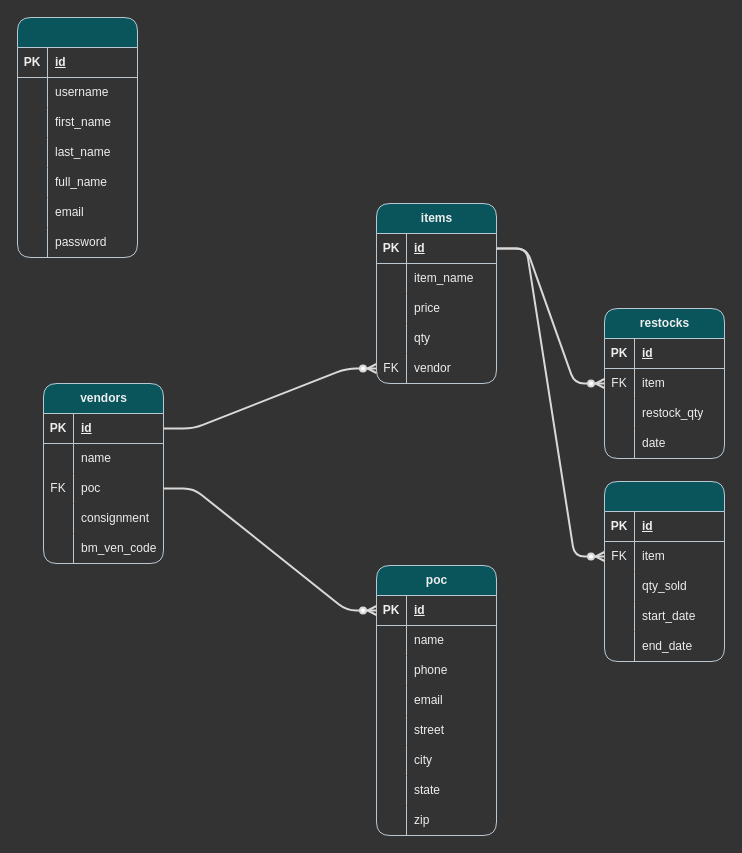
Some shapes in this 742 by 853 pixel diagram are drawn without their labels. The box of each missing label's shape, as (x1, y1, x2, y2) in pixels:
sales: (604, 480, 724, 662)
Users: (16, 16, 138, 258)
